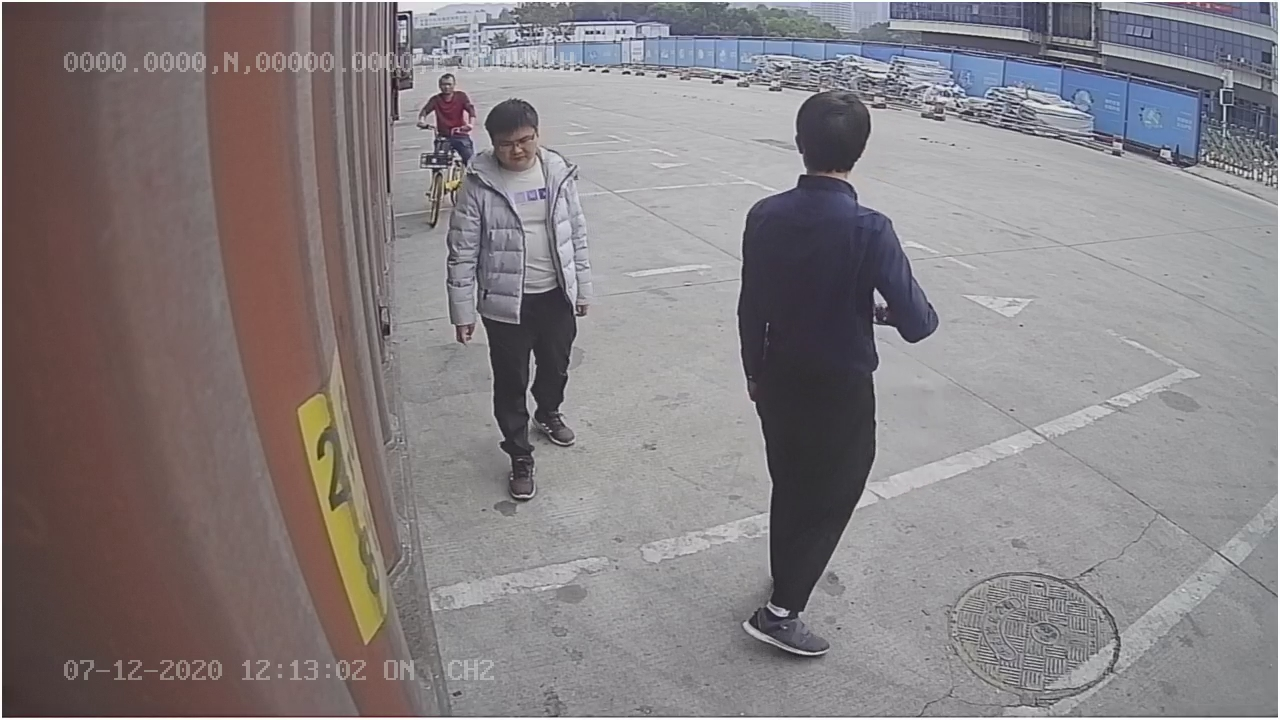person: (728, 73, 941, 658)
